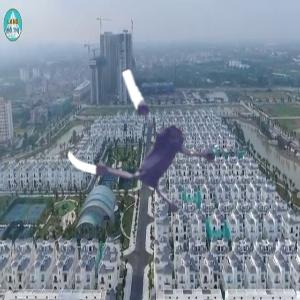drone: (65, 60, 237, 232)
